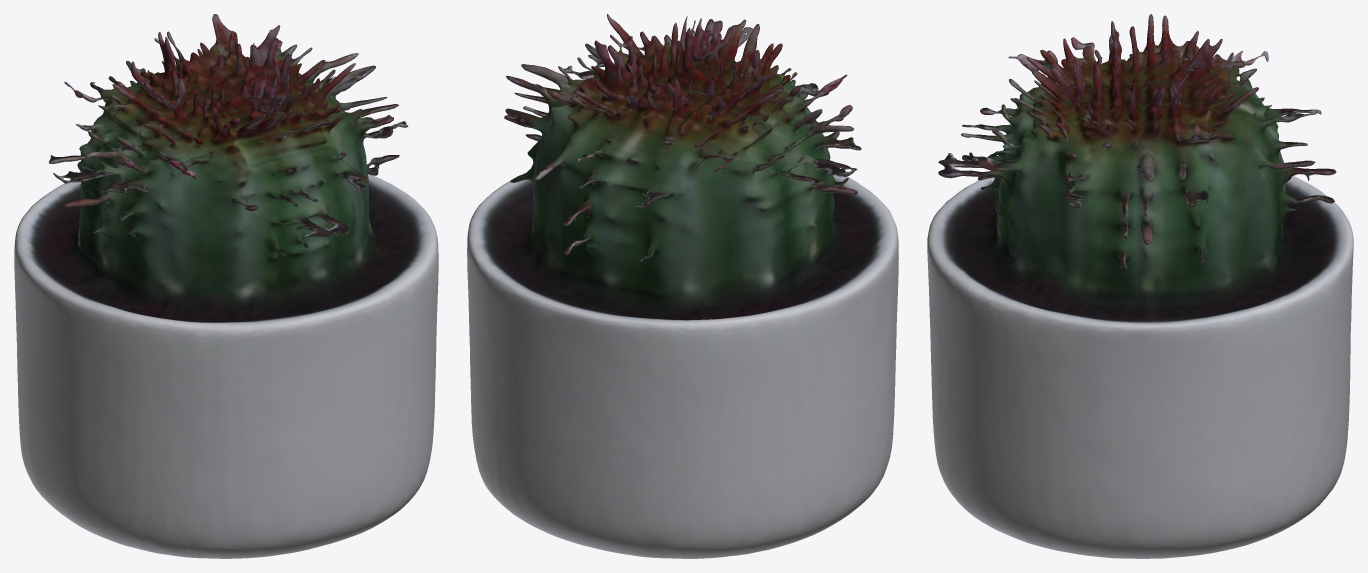
The model's file is 0fc9793dbf5d_large_cactus_in_a_w.fbx.
The picture shows the model from 3 angles, left to right: view 1: azimuth 30°, elevation 25°; view 2: azimuth 150°, elevation 25°; view 3: azimuth 270°, elevation 25°; orthographic projection.
Visible parts, largest first — view 1: high_poly; view 2: high_poly; view 3: high_poly.
Part boxes in pixels (left/top/right/bottom): high_poly: left=14, top=14, right=438, bottom=558; high_poly: left=467, top=14, right=898, bottom=558; high_poly: left=927, top=14, right=1353, bottom=558.
Size of the model in its own units: 88.41 by 100 by 88.33.
